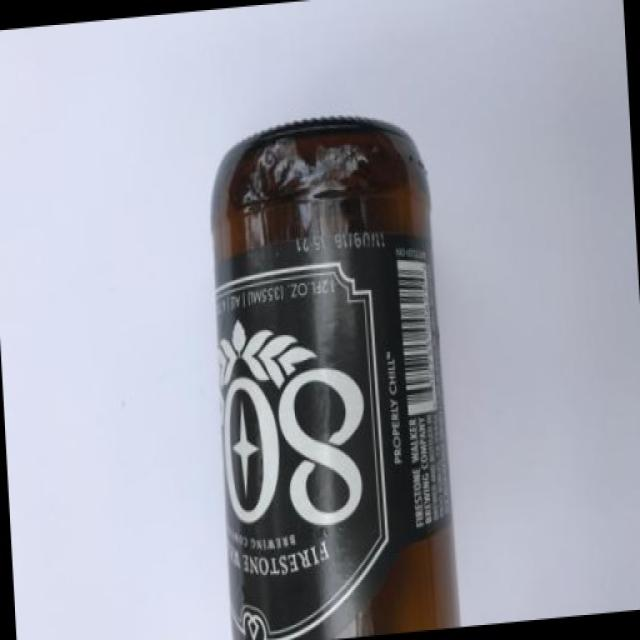vidrio: (151, 55, 539, 640)
